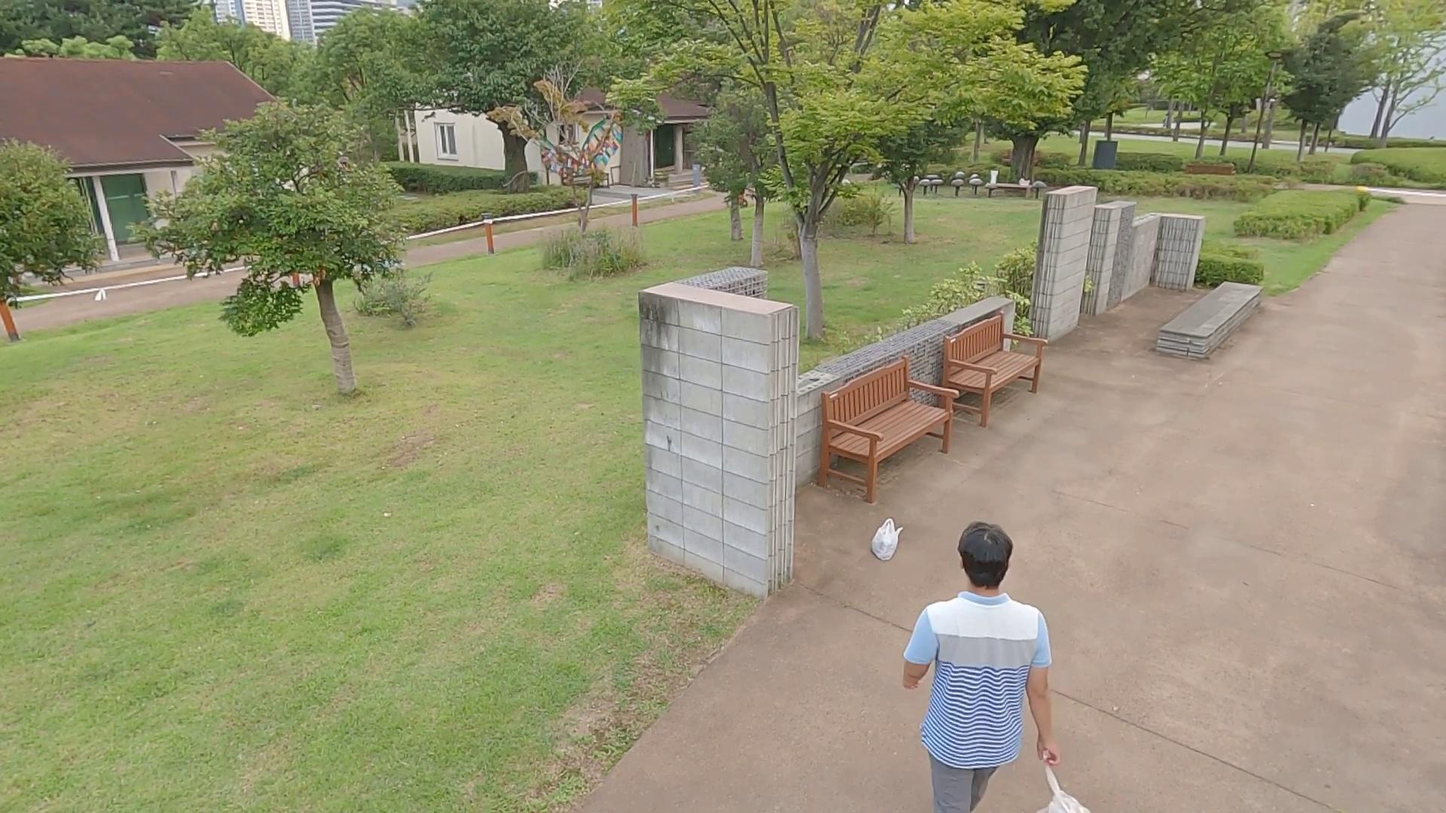person: (894, 523, 1058, 813)
trash: (1030, 766, 1093, 813), (868, 518, 904, 558)
